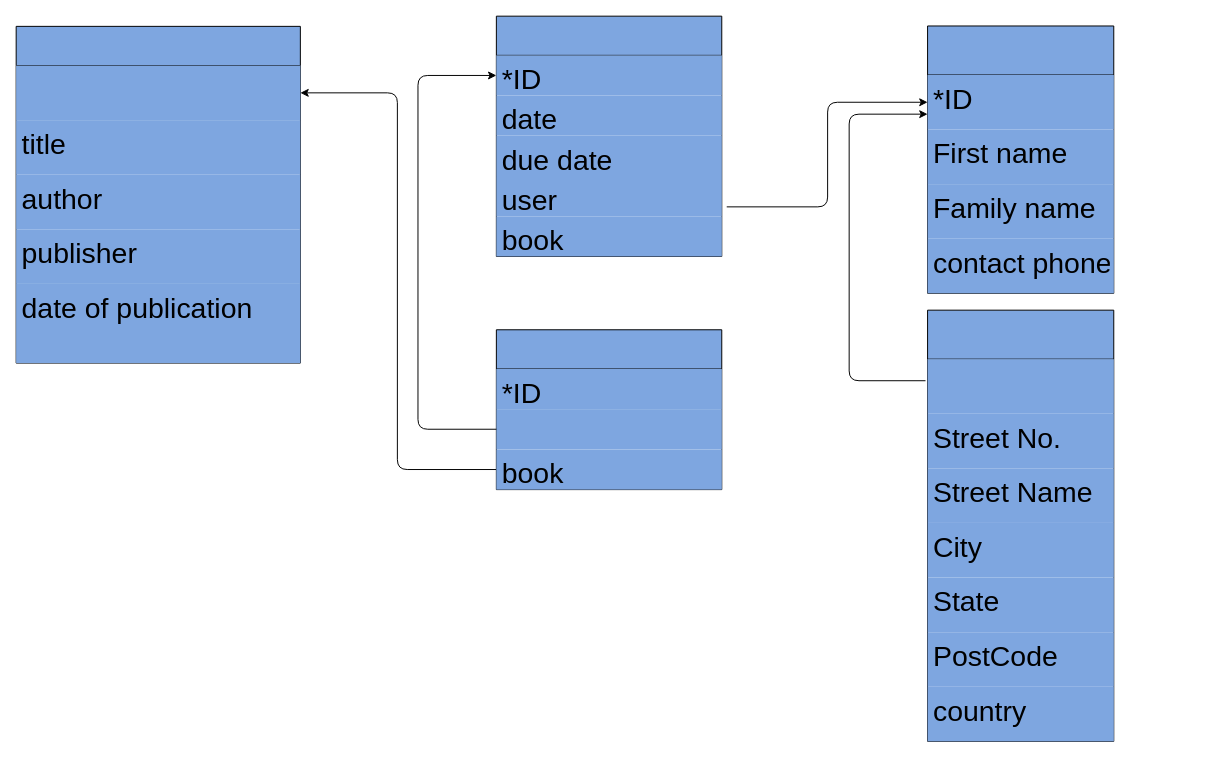
Some shapes in this 1232 by 758 pixel diagram are drawn without their labels. Here are the shapes that lost their labels. From the top down, the box of each, then its label:
(16, 65, 300, 120): *ISBN
(495, 15, 722, 256): trips
(927, 25, 1114, 293): users
(15, 25, 300, 363): books
(927, 359, 1113, 413): *user
(495, 329, 722, 490): borrows
(496, 409, 721, 449): trip
(927, 309, 1114, 741): address
